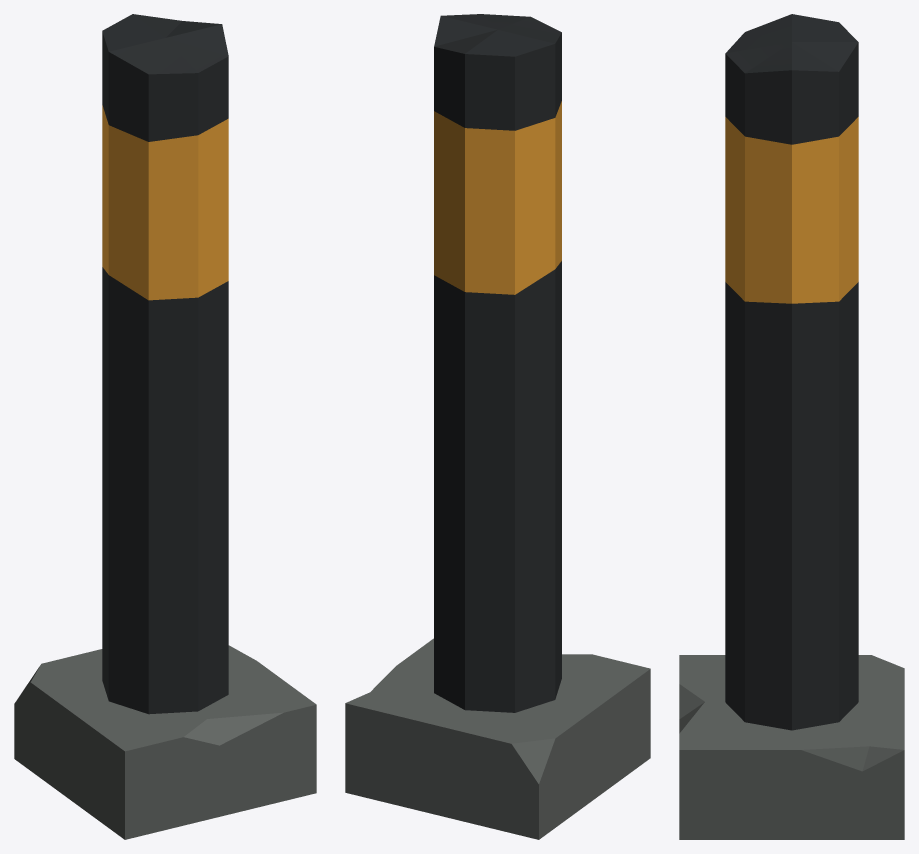
File: SM_Prop_Bollard_01_612.obj
The picture shows the model from 3 angles, left to right: view 1: azimuth 30°, elevation 25°; view 2: azimuth 150°, elevation 25°; view 3: azimuth 270°, elevation 25°; orthographic projection.
Parts seen in each view (by area): view 1: SM_Prop_Bollard_01_0; view 2: SM_Prop_Bollard_01_0; view 3: SM_Prop_Bollard_01_0.
Boxes of the visible parts, x1,y1,x2,y2 form: SM_Prop_Bollard_01_0: (14, 14, 316, 839); SM_Prop_Bollard_01_0: (345, 14, 650, 839); SM_Prop_Bollard_01_0: (679, 14, 904, 839).
Bounding box in the file's own units: 0.2902 × 1.07 × 0.2902.
1 material, 1 textured.
